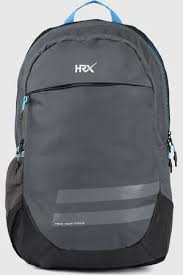backpack: (4, 0, 177, 270)
